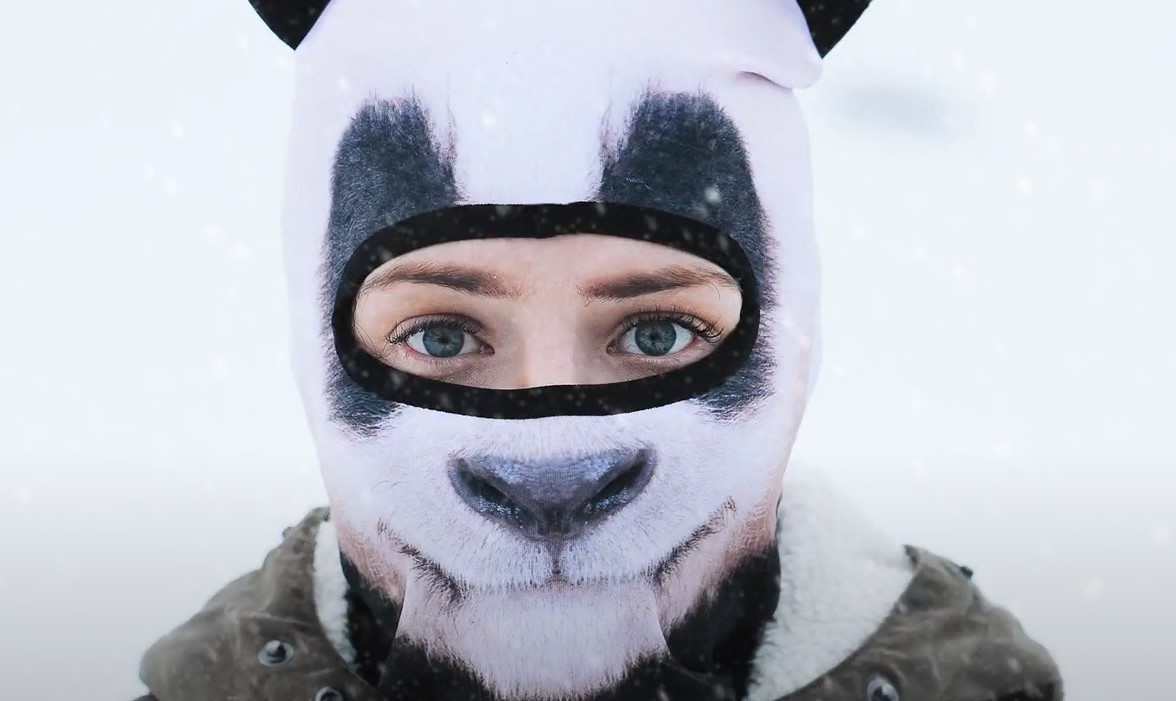face_with_mask: (316, 87, 805, 669)
